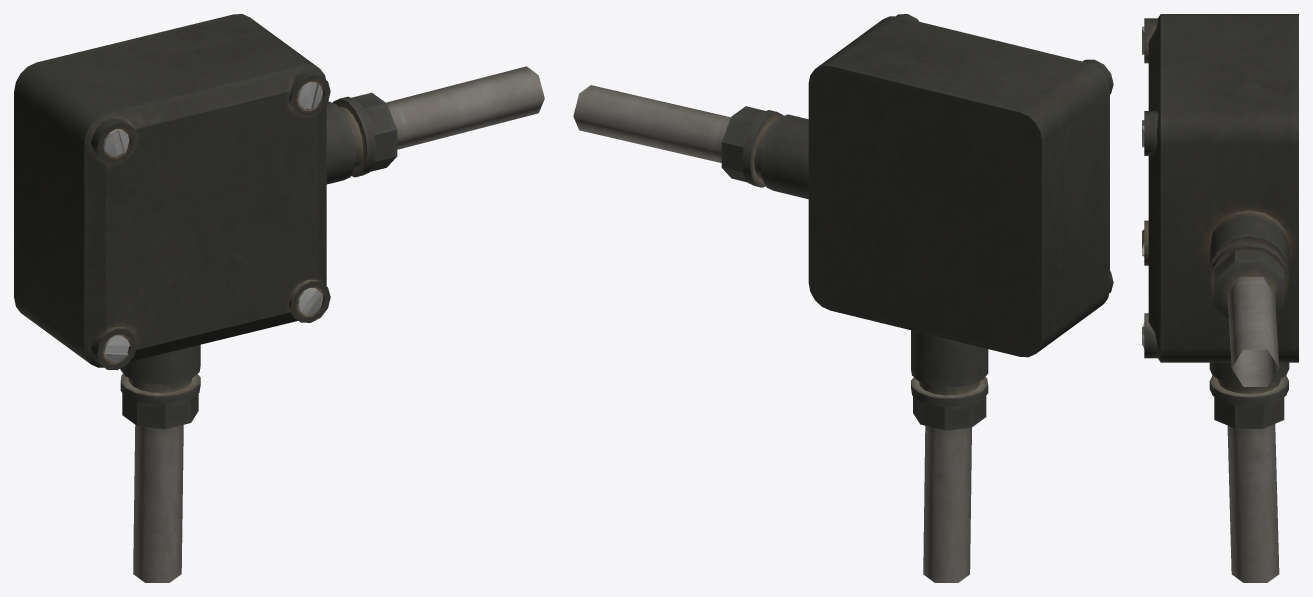
The model's file is cable_cable_box_turn.fbx.
The picture shows the model from 3 angles, left to right: view 1: azimuth 30°, elevation 25°; view 2: azimuth 150°, elevation 25°; view 3: azimuth 270°, elevation 25°; orthographic projection. The views are drawn at different scales.
Visible parts, largest first — view 1: modular_electric_cables_boxes__cable_box_turn; view 2: modular_electric_cables_boxes__cable_box_turn; view 3: modular_electric_cables_boxes__cable_box_turn.
Boxes of the visible parts, x1=… form: modular_electric_cables_boxes__cable_box_turn: x1=14, y1=14, x2=544, y2=582; modular_electric_cables_boxes__cable_box_turn: x1=573, y1=14, x2=1113, y2=582; modular_electric_cables_boxes__cable_box_turn: x1=1142, y1=14, x2=1298, y2=582.
Bounding box in the file's own units: 0.1323 × 0.1323 × 0.0369.
